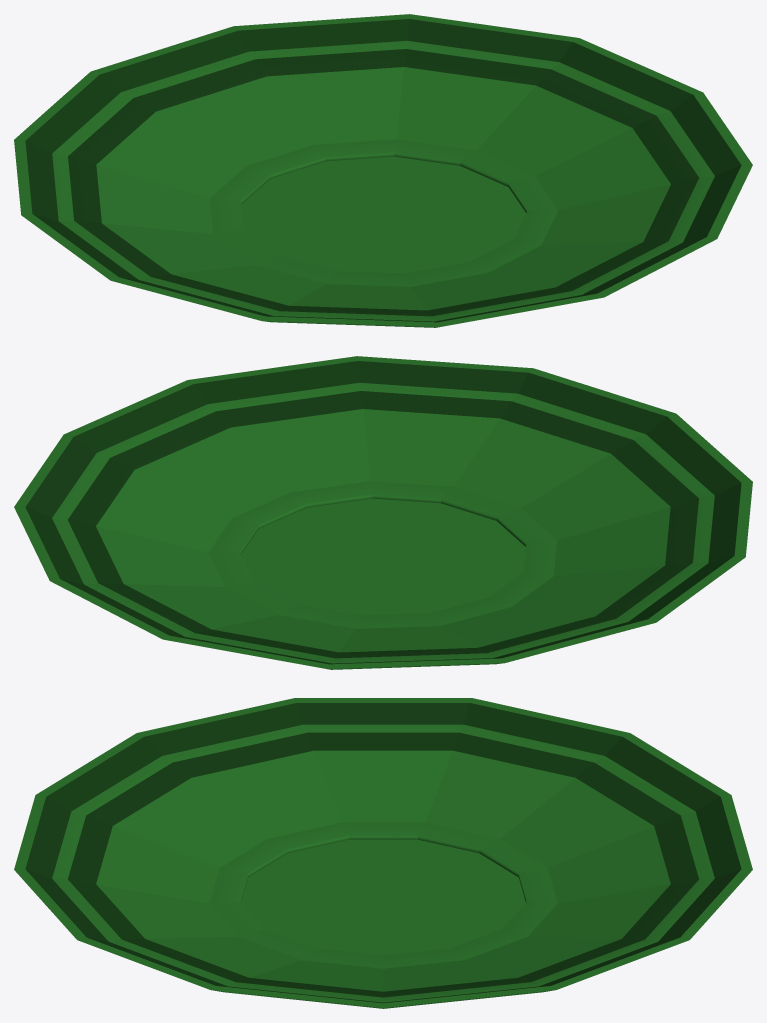
The model's file is TT_Japanese_Saucer.fbx.
3 views of the same model, one above another, from view 1: azimuth 30°, elevation 25°; view 2: azimuth 150°, elevation 25°; view 3: azimuth 270°, elevation 25° (orthographic).
Visible parts, largest first — view 1: Japanese_saucer; view 2: Japanese_saucer; view 3: Japanese_saucer.
Part boxes in pixels (x1,y1,x2,y2): Japanese_saucer: (14,14,752,327); Japanese_saucer: (14,356,752,669); Japanese_saucer: (14,698,752,1008).
Bounding box in the file's own units: 3.26 × 0.2613 × 3.29.
